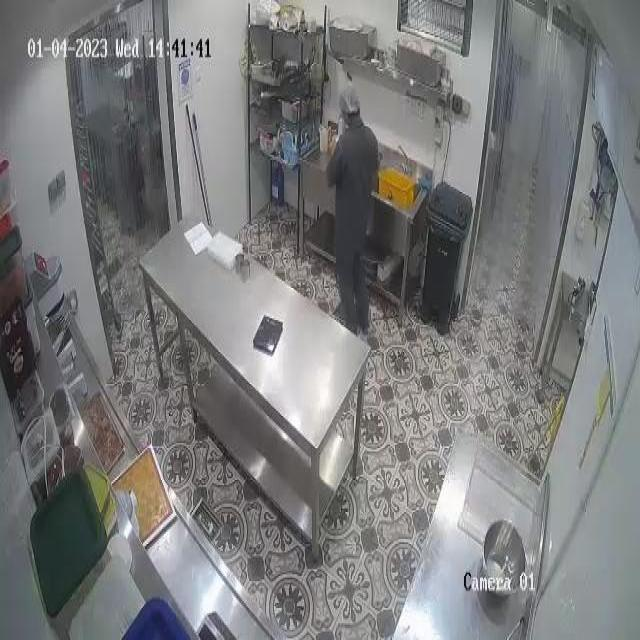hairnet: (337, 85, 356, 114)
